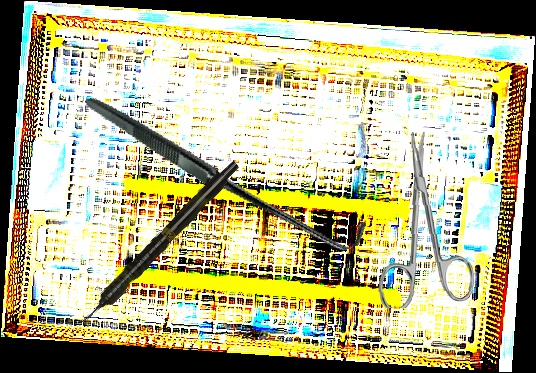Handpiece: (73, 156, 244, 332)
Hook Surgical: (84, 24, 372, 317)
Iris Scissors: (372, 130, 477, 309)
